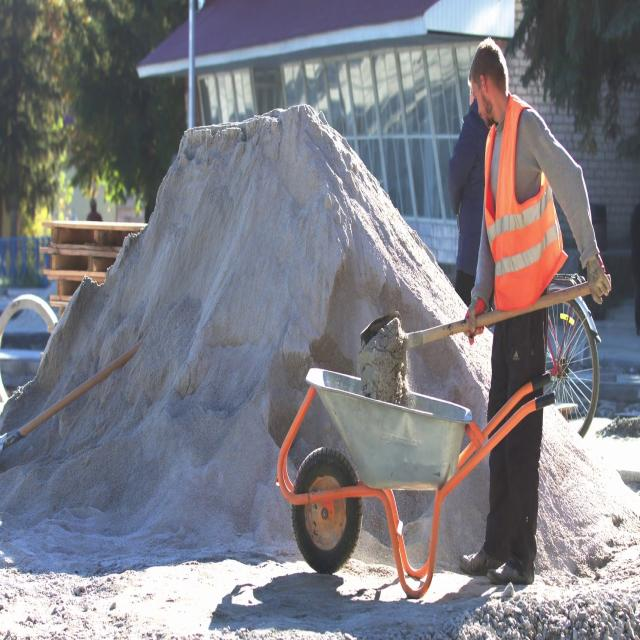gloved: (586, 254, 611, 305), (464, 296, 486, 345)
